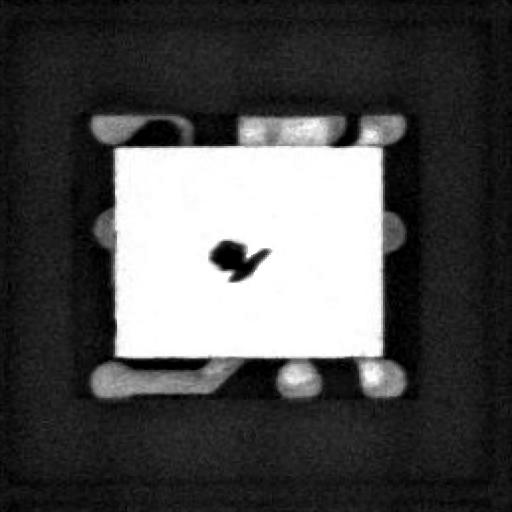DIE_INK: (197, 246, 258, 292)
